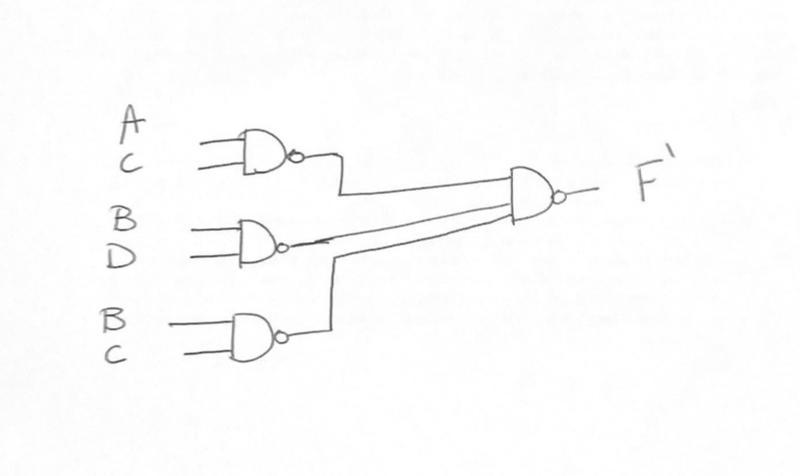NAND: (495, 156, 583, 238), (232, 105, 313, 190), (226, 213, 303, 288), (223, 306, 297, 376)
